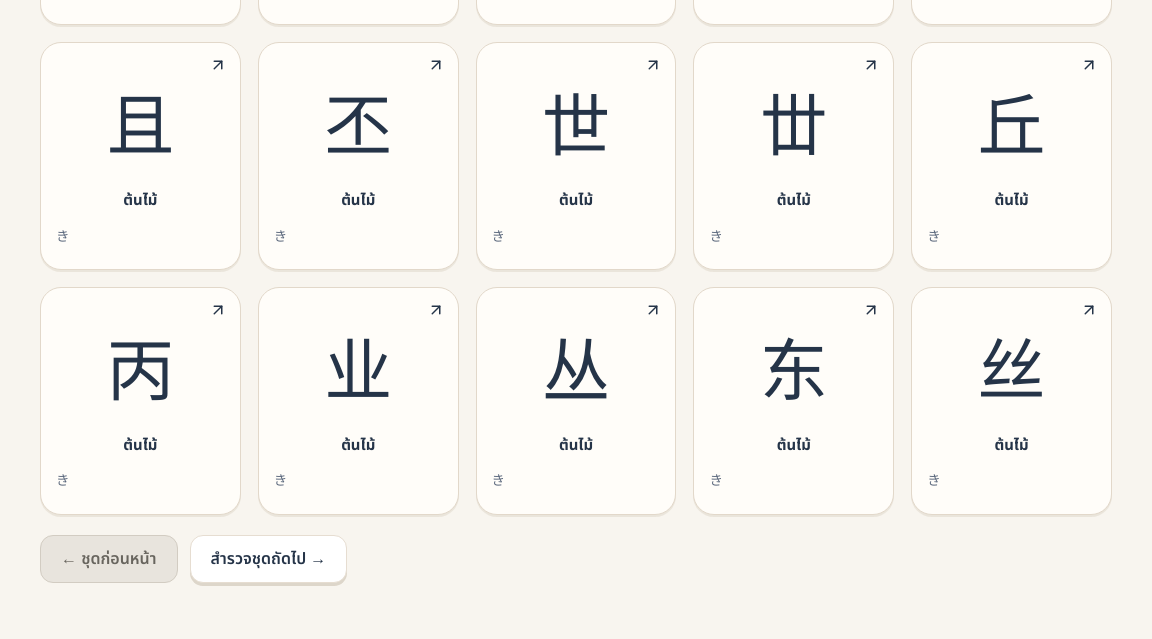
paginates explorer results beyond the first 30 teaching cards
(page scrolled)
Click the button "สำรวจชุดถัดไป →": coordinates (268, 558) [190, 534, 347, 582]
(page scrolled)
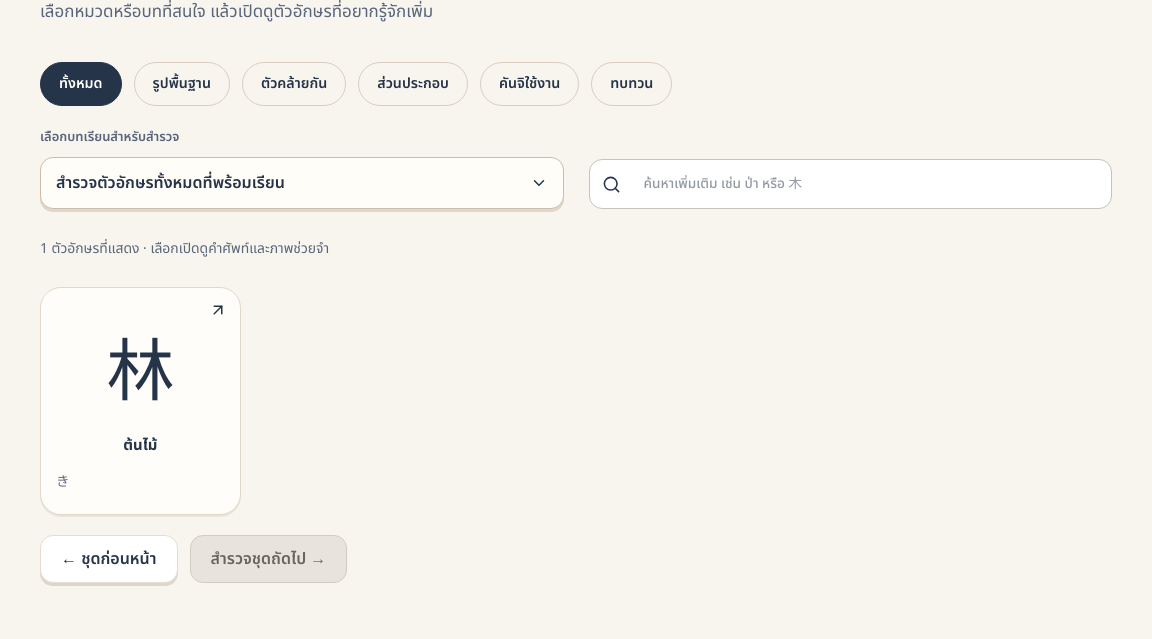
expect the number of elements with class "explorer-tile" is 1: met, box [40, 287, 241, 515]
expect the button "สำรวจชุดถัดไป →" is disabled: met, box [190, 535, 347, 583]
